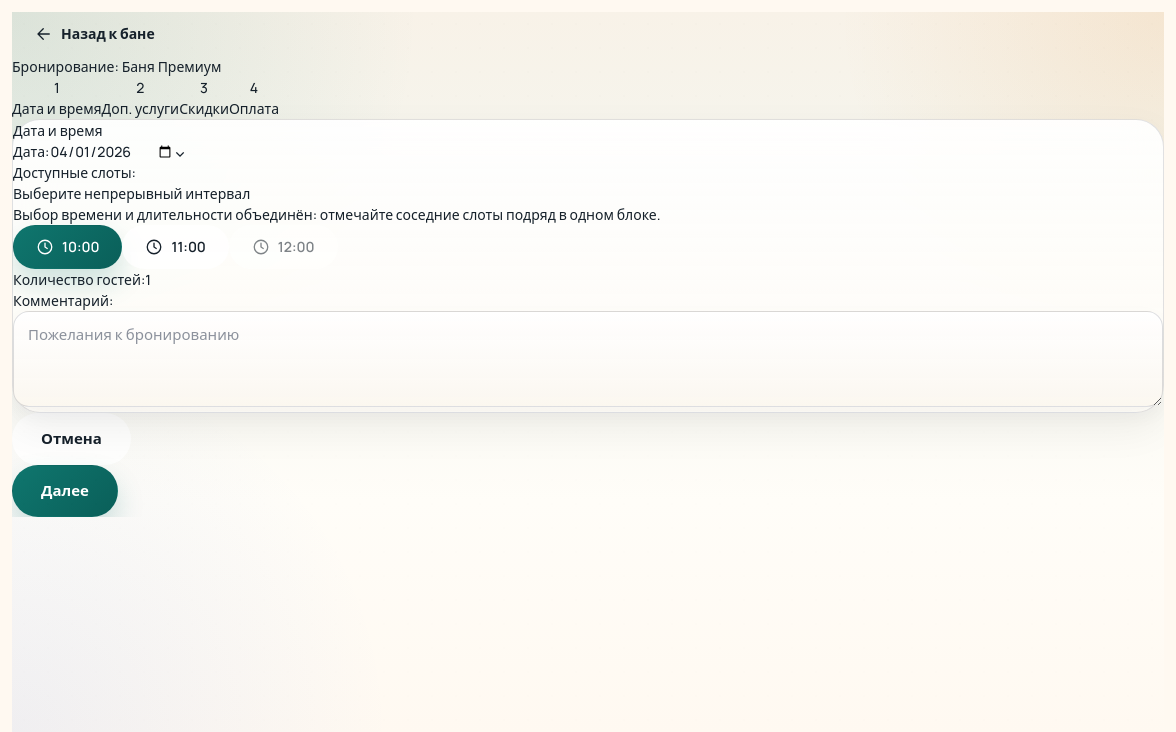
Test: BookingCreate › Step navigation › navigates through all 4 steps
What coordinates should you click on to do the following:
click the button "Далее"
I would click on:
 (65, 491)
Its box is [12,465,118,517].
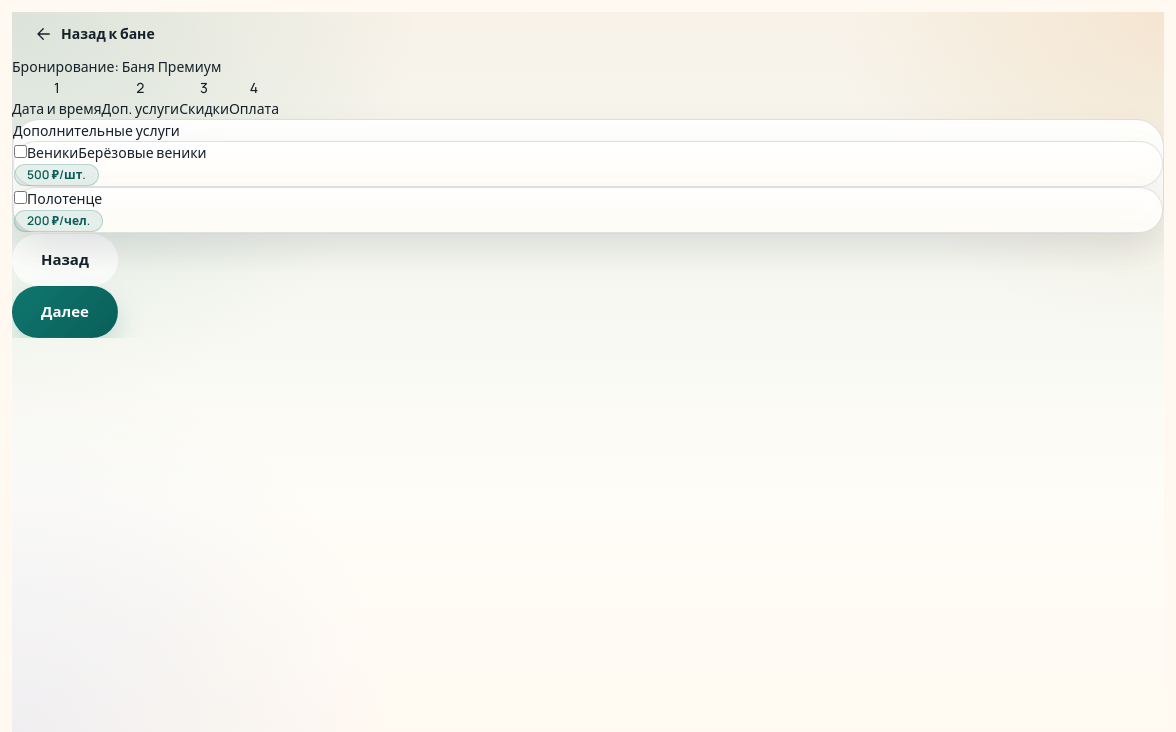
Now the text "Веники" is shown, box [27,143,78,162]
What coordinates should you click on to do the following:
click the button "Далее"
I would click on:
 (65, 312)
Its box is [12,286,118,338].
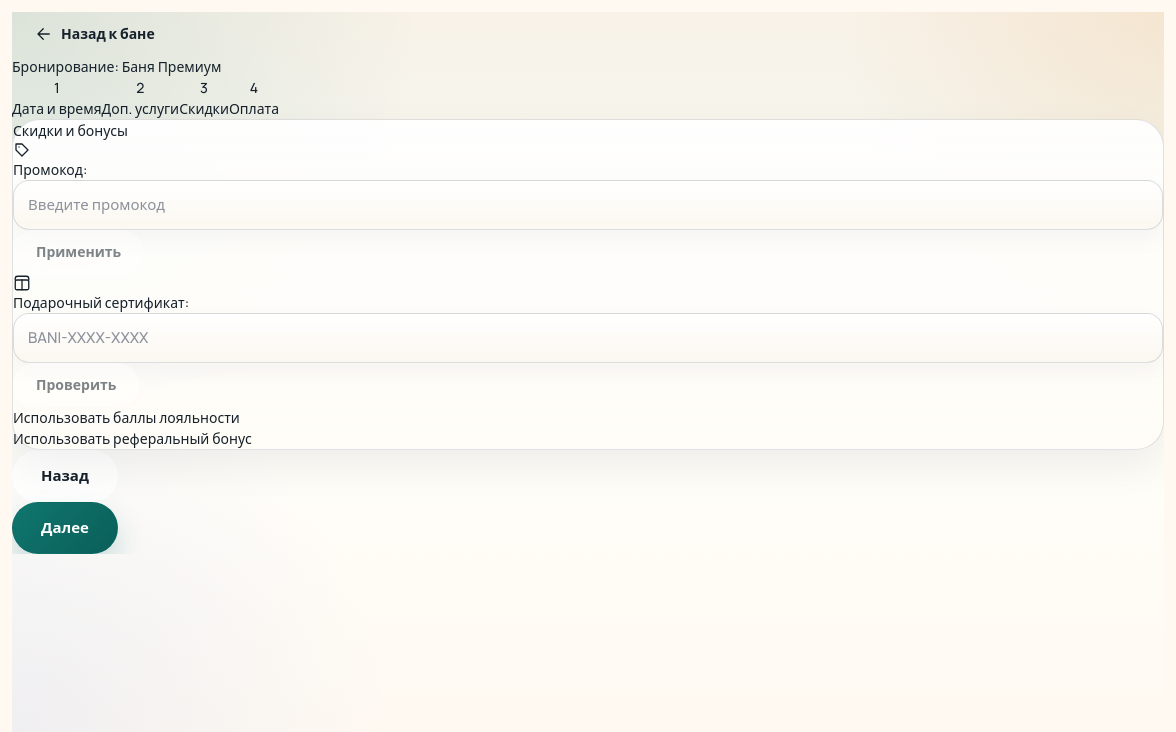
Now the field with placeholder "Введите промокод" is shown, box [13,180,1163,230]
What coordinates should you click on to do the following:
click the button "Далее"
I would click on:
 (65, 528)
Its box is [12,502,118,554].
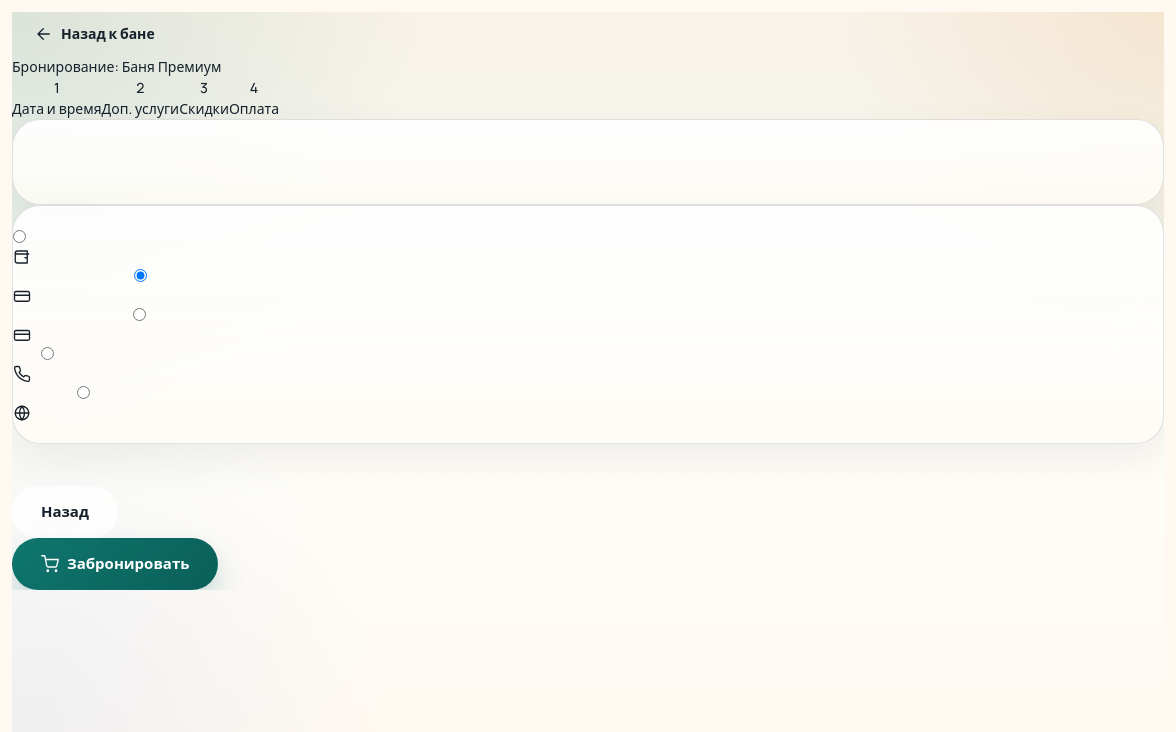
Now the text "Способ оплаты" is shown, box [13,207,116,226]
Now the text "Забронировать" is shown, box [67,553,189,575]
